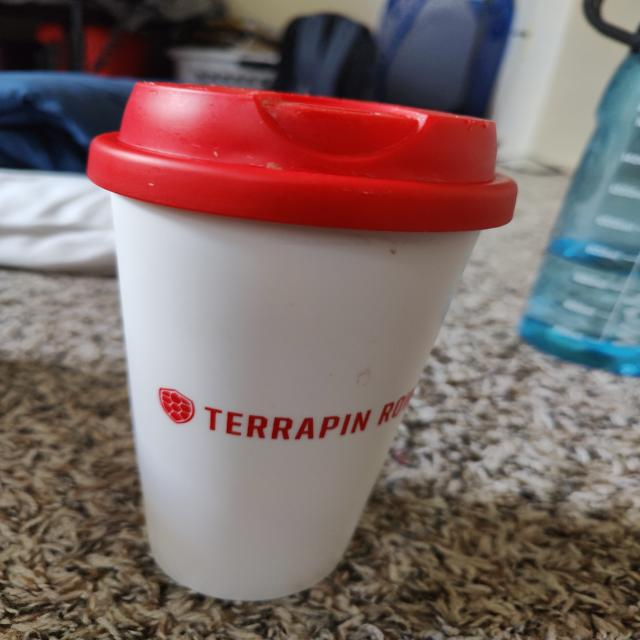mug: (84, 83, 512, 604)
